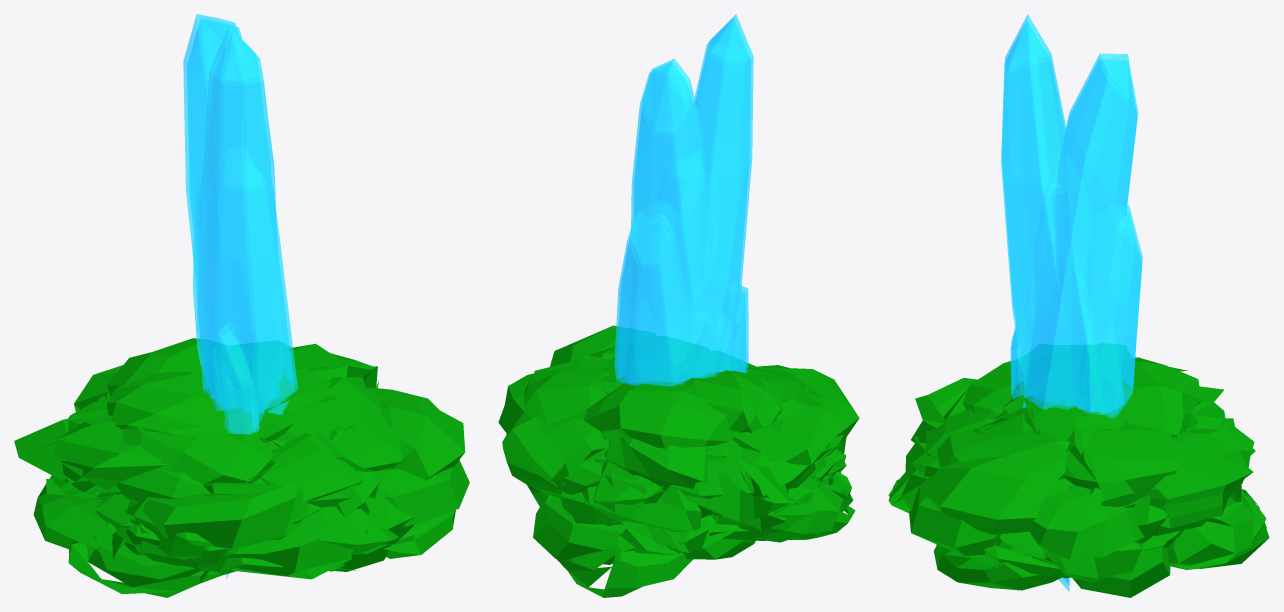
The model's file is XRYSTAL41.gltf.
3 renders of one model, left to right at view 1: azimuth 30°, elevation 25°; view 2: azimuth 150°, elevation 25°; view 3: azimuth 270°, elevation 25°, orthographic. The views are drawn at different scales.
Parts seen in each view (by area): view 1: Cube.001, Circle, Circle.001_Circle.002; view 2: Cube.001, Circle, Circle.001_Circle.002; view 3: Cube.001, Circle.001_Circle.002, Circle.
Part boxes in pixels (bbox=[...]): Cube.001: bbox=[14, 338, 469, 597]; Circle: bbox=[183, 14, 294, 433]; Circle.001_Circle.002: bbox=[187, 19, 297, 579]; Cube.001: bbox=[498, 325, 859, 597]; Circle: bbox=[617, 14, 753, 386]; Circle.001_Circle.002: bbox=[614, 18, 750, 385]; Cube.001: bbox=[888, 357, 1269, 597]; Circle.001_Circle.002: bbox=[1001, 21, 1141, 591]; Circle: bbox=[1002, 14, 1142, 585].
Bounding box in the file's own units: 2.79 × 4.07 × 2.59.
